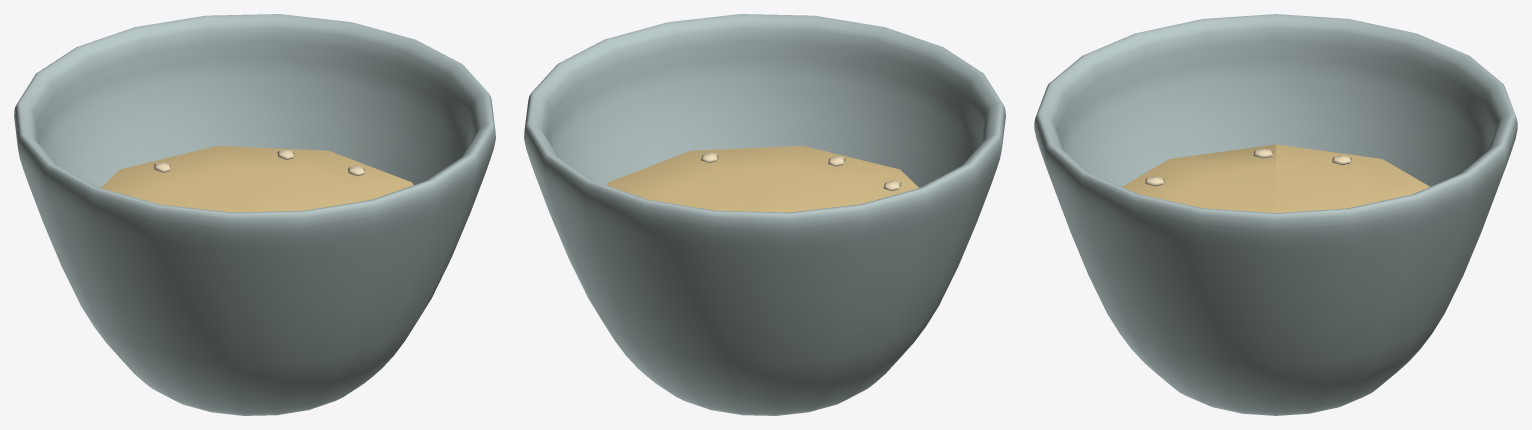
The model's file is mixer-bowl-light.glb.
3 renders of one model, left to right at view 1: azimuth 30°, elevation 25°; view 2: azimuth 150°, elevation 25°; view 3: azimuth 270°, elevation 25°, orthographic.
Parts seen in each view (by area): view 1: steel, batter, cream; view 2: steel, batter, cream; view 3: steel, batter, cream.
Part boxes in pixels (x1,y1,x2,y2): steel: [14, 14, 495, 415]; batter: [101, 145, 413, 212]; cream: [153, 149, 365, 176]; steel: [524, 14, 1005, 415]; batter: [606, 145, 918, 212]; cream: [632, 152, 901, 194]; steel: [1034, 14, 1517, 415]; batter: [1122, 144, 1429, 212]; cream: [1145, 148, 1351, 186].
Bounding box in the file's own units: 2.36 × 1.42 × 2.36.
